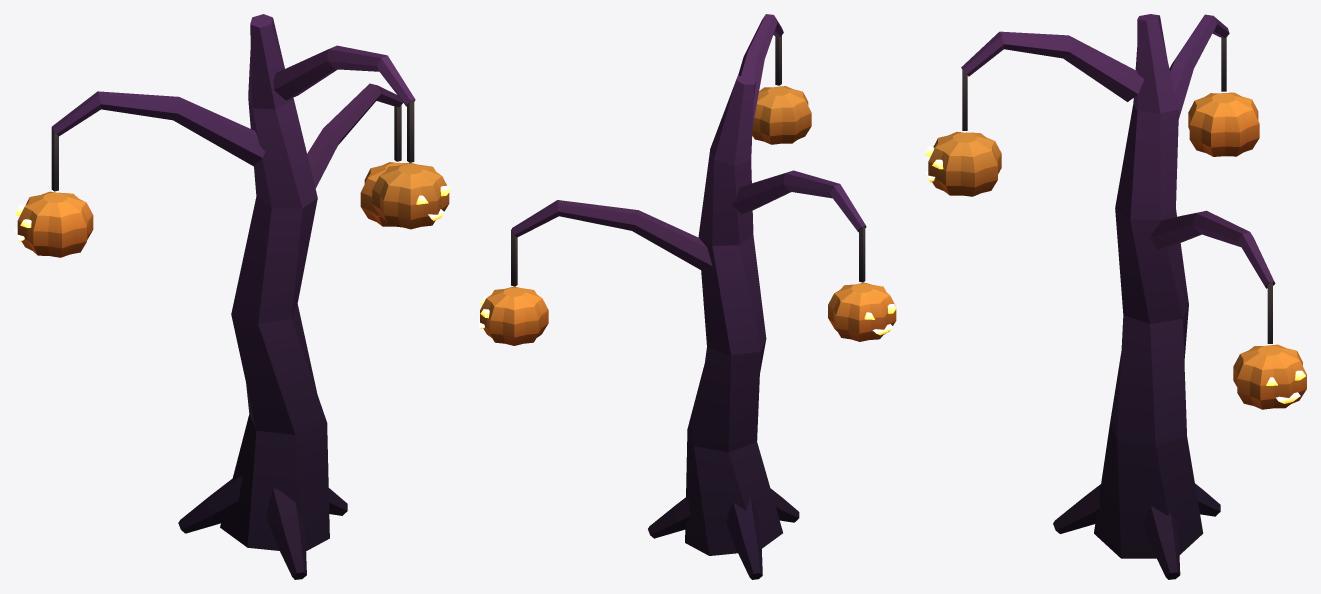
File: PlayGround_Kit_Tree_Lantern.fbx
3 renders of one model, left to right at view 1: azimuth 30°, elevation 25°; view 2: azimuth 150°, elevation 25°; view 3: azimuth 270°, elevation 25°, orthographic. The views are drawn at different scales.
Visible parts, largest first — view 1: PlayGround_Kit_Tree_Lantern; view 2: PlayGround_Kit_Tree_Lantern; view 3: PlayGround_Kit_Tree_Lantern.
Part boxes in pixels (x1,y1,x2,y2): PlayGround_Kit_Tree_Lantern: (14, 14, 450, 579); PlayGround_Kit_Tree_Lantern: (479, 14, 896, 579); PlayGround_Kit_Tree_Lantern: (925, 14, 1306, 579).
Size of the model in its own units: 3.28 by 3.82 by 2.51.
